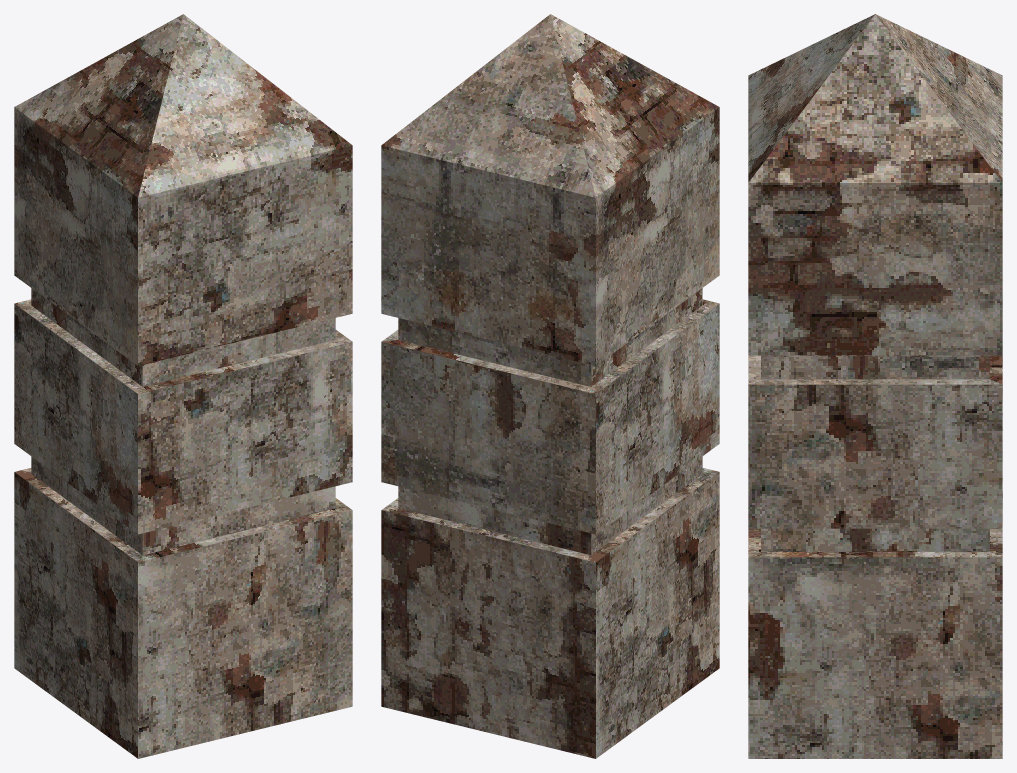
Rendered from SM_FenceEnd_01.gltf.
3 views of the same model, side by side, from view 1: azimuth 30°, elevation 25°; view 2: azimuth 150°, elevation 25°; view 3: azimuth 270°, elevation 25° (orthographic). The views are drawn at different scales.
Visible parts, largest first — view 1: SM_FenceEnd_01; view 2: SM_FenceEnd_01; view 3: SM_FenceEnd_01.
Part boxes in pixels (bbox=[...]): SM_FenceEnd_01: bbox=[14, 14, 352, 758]; SM_FenceEnd_01: bbox=[381, 14, 719, 758]; SM_FenceEnd_01: bbox=[748, 14, 1002, 758].
Size of the model in its own units: 0.8 by 2.4 by 0.8.
Materials: 1 (1 with a texture image).
